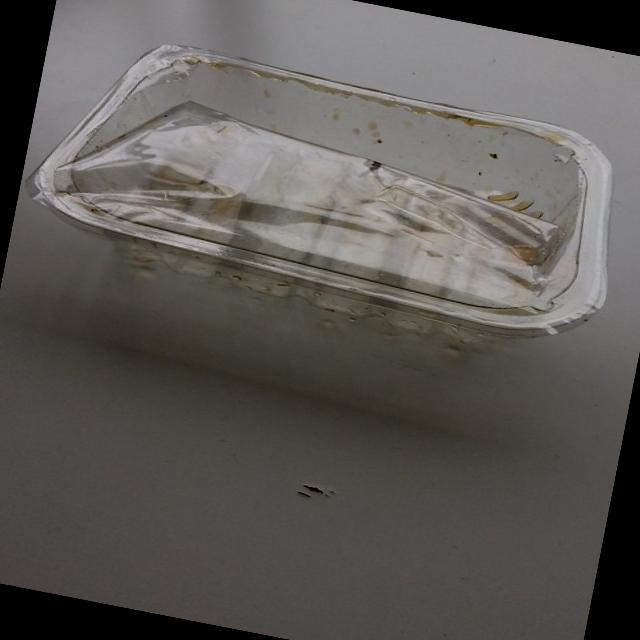Trash: (38, 23, 640, 371)
